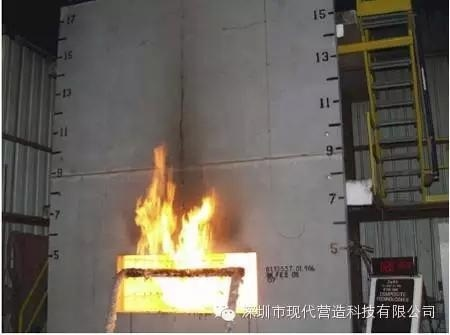fire: (118, 142, 258, 320)
